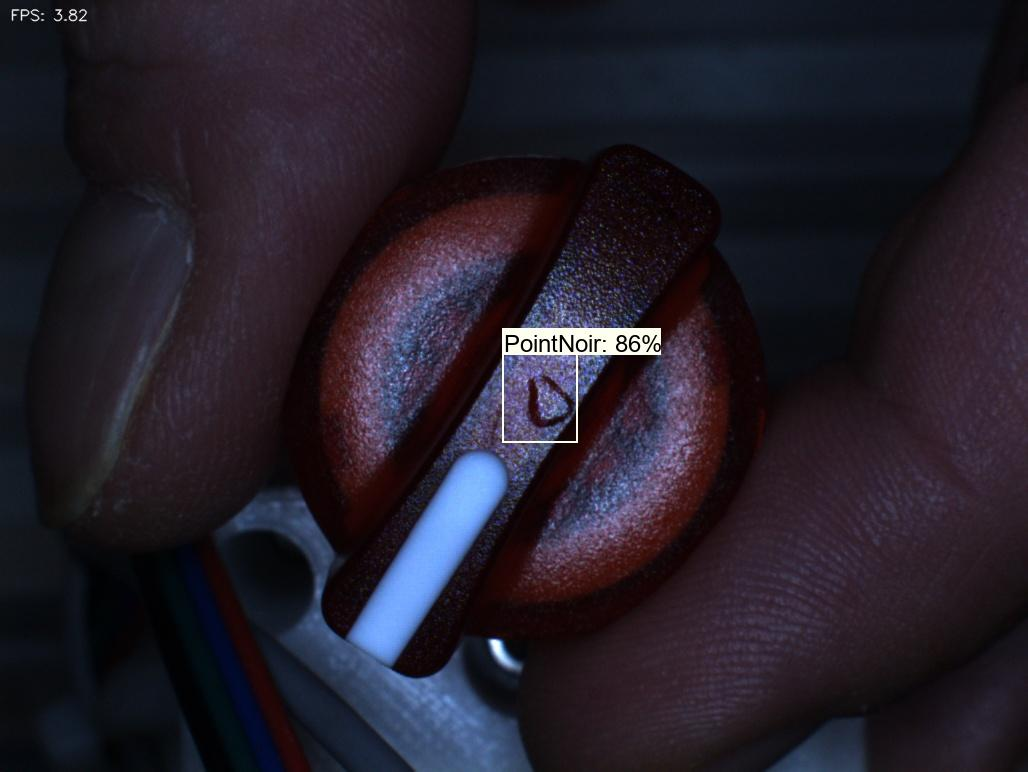Choc: (508, 361, 592, 442)
